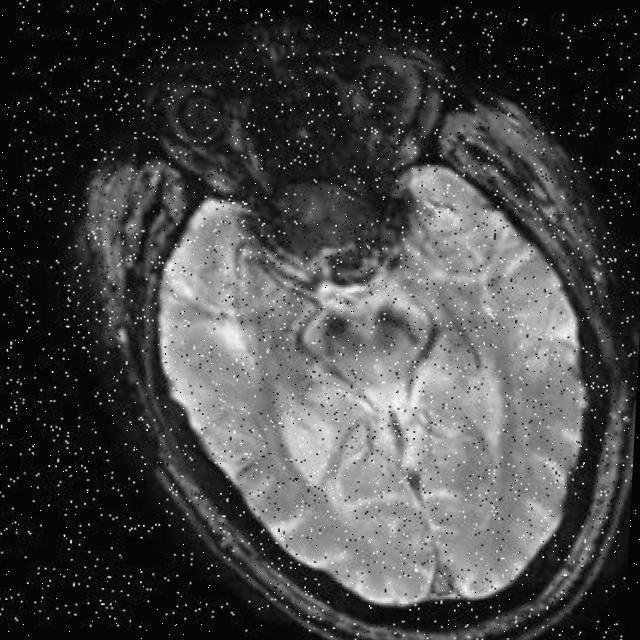EMCI: (202, 200, 340, 428), (378, 218, 534, 403)
